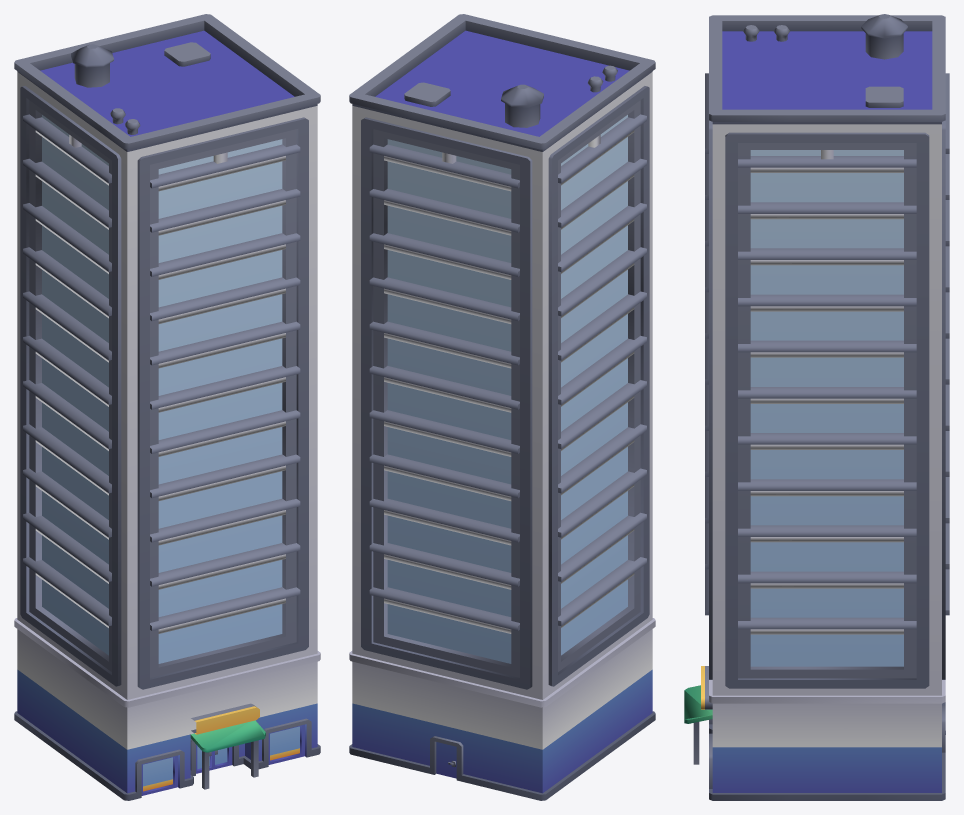
File: office_level3.glb
3 views of the same model, side by side, from view 1: azimuth 30°, elevation 25°; view 2: azimuth 150°, elevation 25°; view 3: azimuth 270°, elevation 25° (orthographic). The views are drawn at different scales.
Parts seen in each view (by area): view 1: building-skyscraper-d; view 2: building-skyscraper-d; view 3: building-skyscraper-d.
Boxes of the visible parts, x1,y1,x2,y2 form: building-skyscraper-d: (14,14,320,800); building-skyscraper-d: (349,14,655,800); building-skyscraper-d: (684,14,949,800).
Bounding box in the file's own units: 1.28 × 4.1 × 1.39.
Materials: 1 (1 with a texture image).
